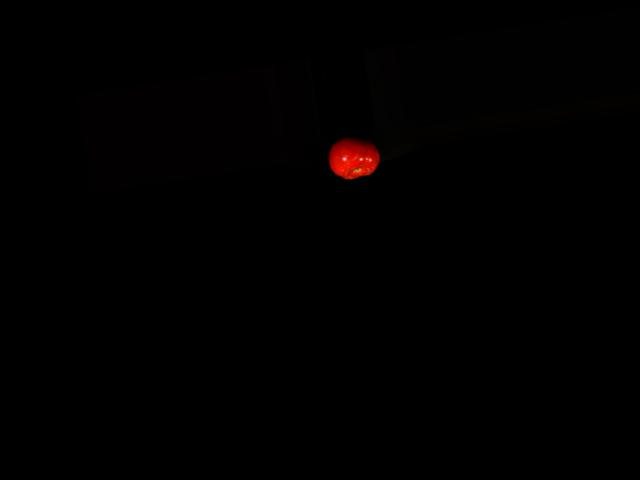tomato: (324, 131, 382, 182)
